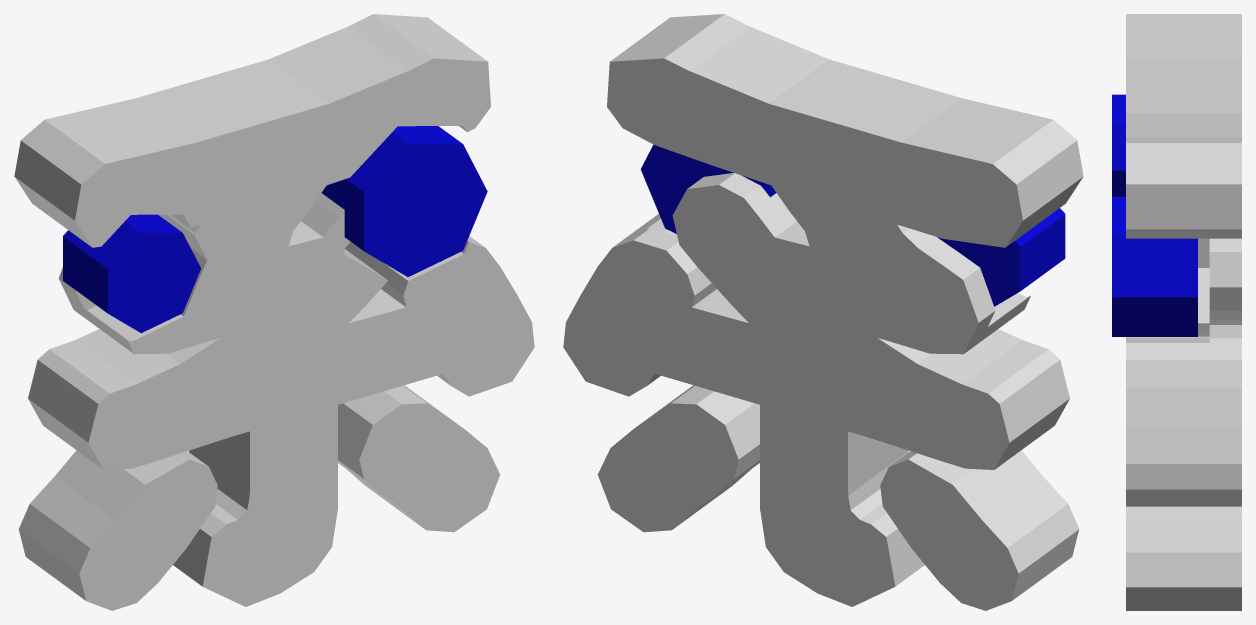
Rendered from Ch_Lite_China_系_01.fbx.
3 renders of one model, left to right at view 1: azimuth 30°, elevation 25°; view 2: azimuth 150°, elevation 25°; view 3: azimuth 270°, elevation 25°, orthographic. The views are drawn at different scales.
Visible parts, largest first — view 1: sphere1; view 2: sphere1; view 3: sphere1.
Boxes of the visible parts, x1,y1,x2,y2 form: sphere1: (14,14,534,610); sphere1: (563,14,1083,610); sphere1: (1112,14,1241,610).
Size of the model in its own units: 0.8755 by 0.915 by 0.2242.
